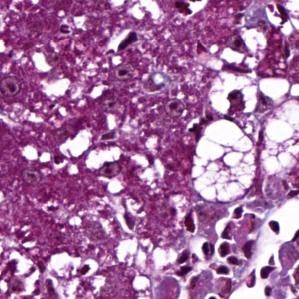ballooning: (189, 115, 260, 206)
